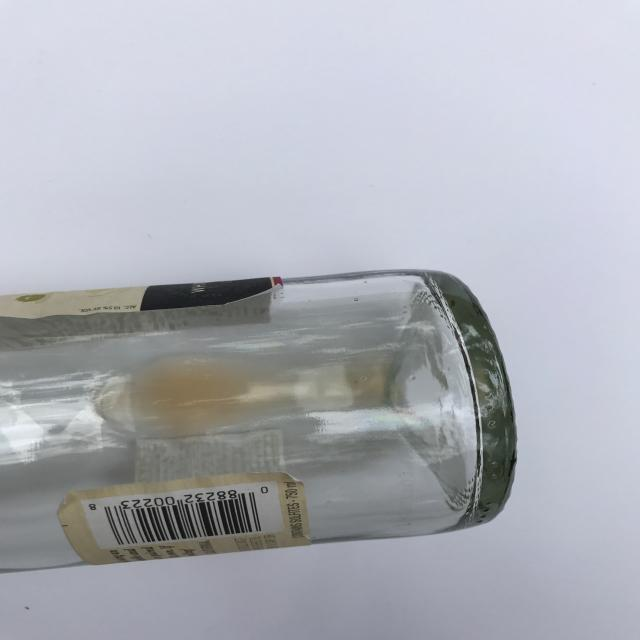glass: (0, 268, 519, 573)
